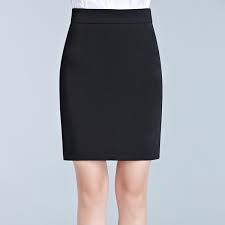F_tailored skirt: (52, 5, 170, 176)
